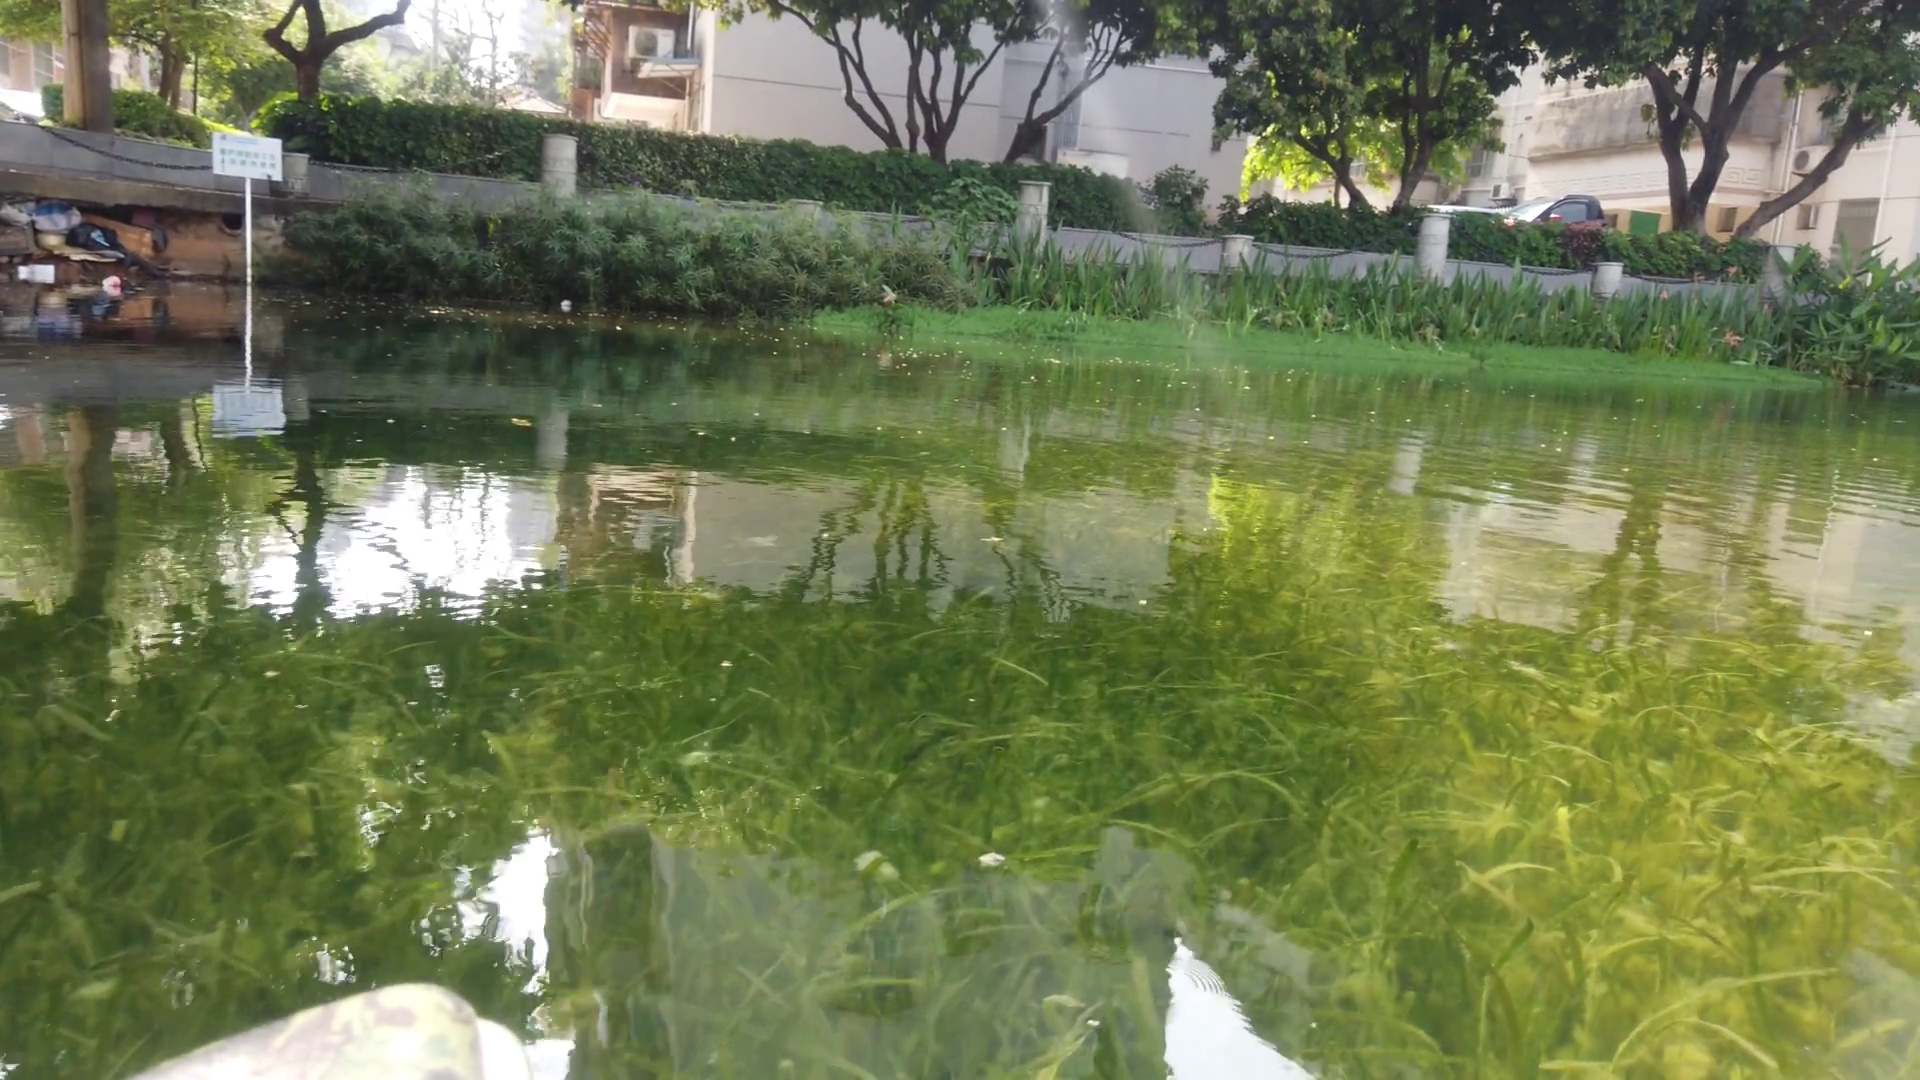bottle: (100, 273, 123, 287), (559, 295, 574, 307)
carton: (29, 262, 53, 278), (18, 264, 32, 280)
